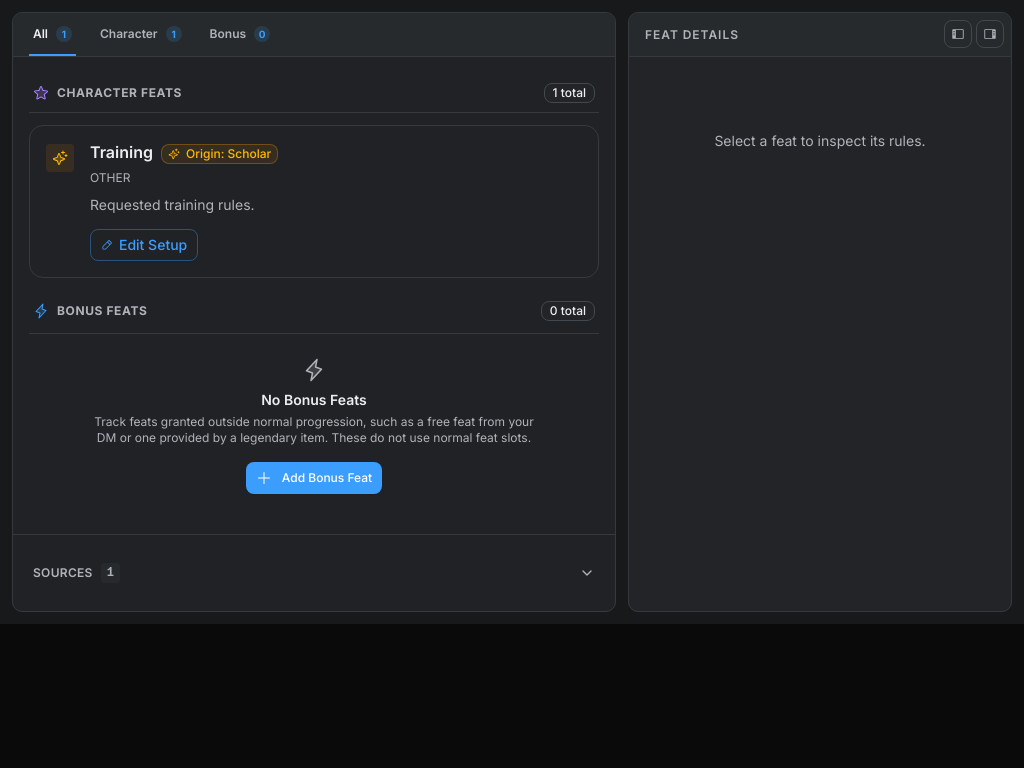
Test: a missing saved printing blocks finishing instead of borrowing another printing
The width and height of the screenshot is (1024, 768).
Click the button "Edit Setup" at (144, 245), box top-left (90, 229), bottom-right (198, 261)
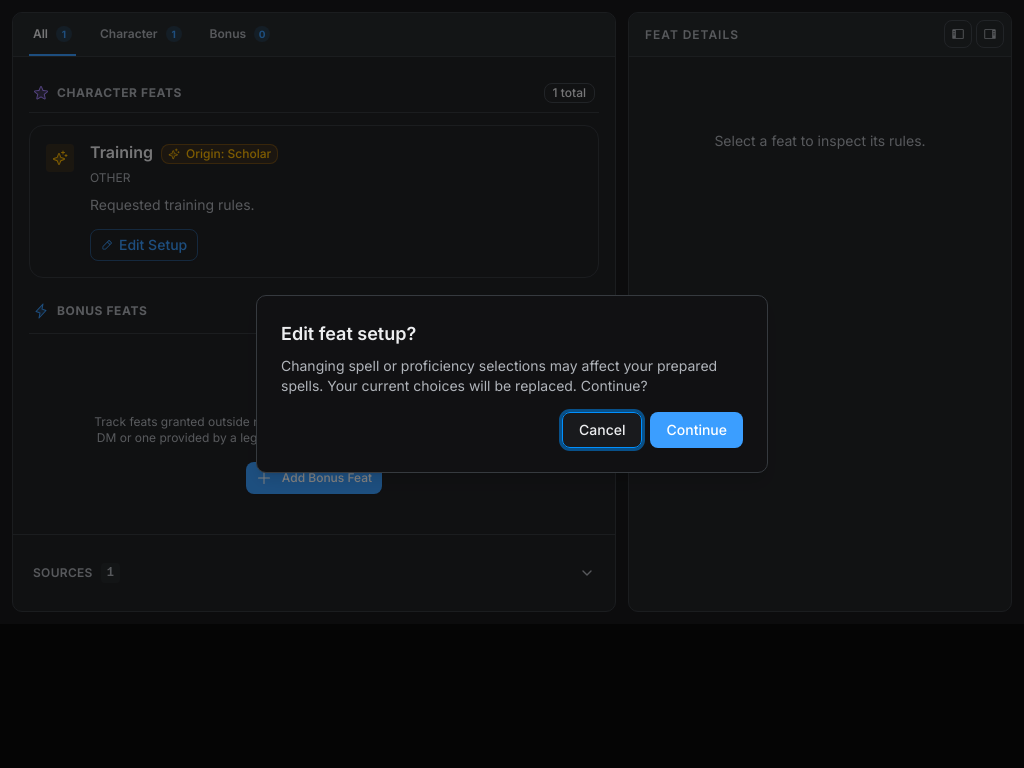
Click the button "Continue" at (697, 430), box top-left (650, 412), bottom-right (743, 448)
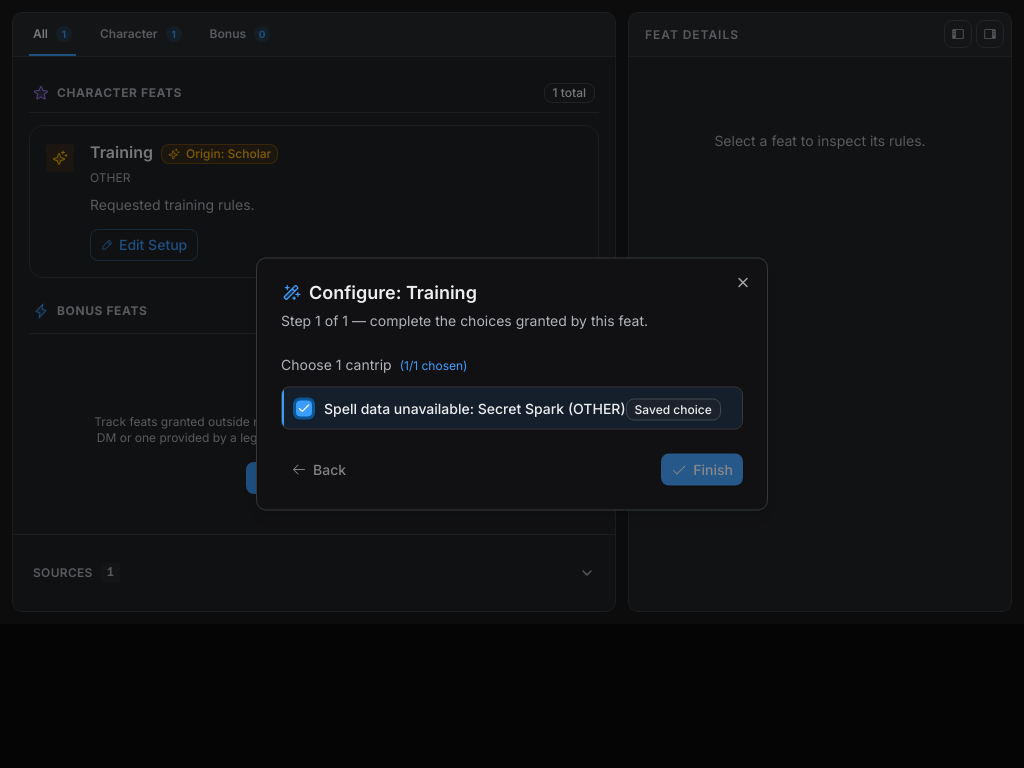
expect the text "Spell data unavailable: Secret Spark (OTHER)" is shown: met, box top-left (324, 400), bottom-right (626, 416)
expect the button "Finish" is disabled: met, box top-left (661, 454), bottom-right (743, 486)
